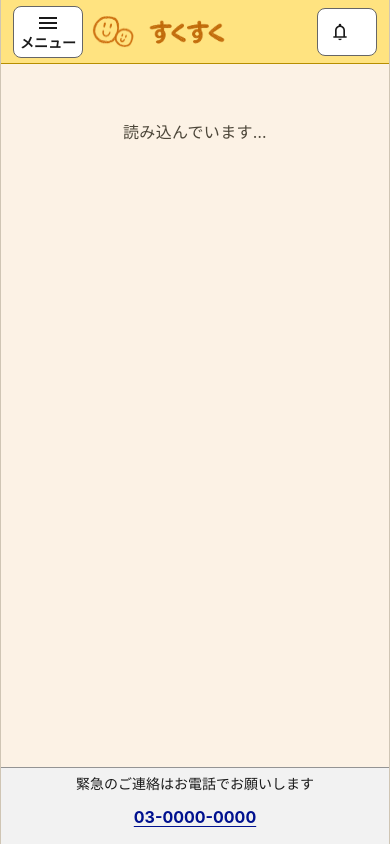
it: 保護者の共通レイアウト › メニューを開く・閉じる、メニューの項目、ログアウトの名前は、アイコンを添えても変わらない
The image size is (390, 844).
Click the button with aria-label "メニューを開く" at (48, 32), box [13, 6, 83, 58]
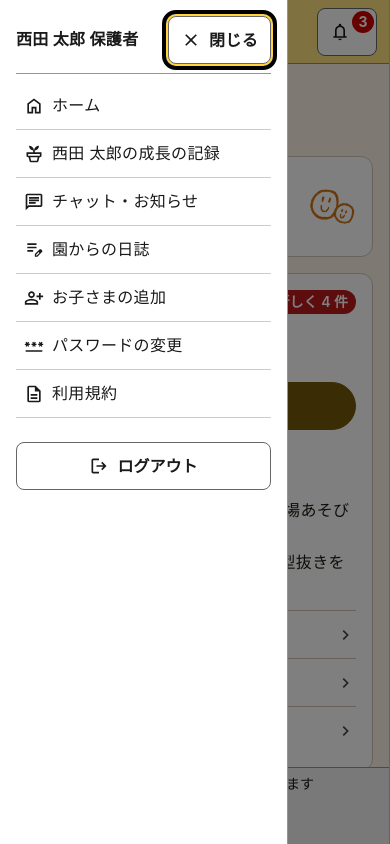
Expected: the button with aria-label "メニューを閉じる" is shown, [168, 16, 271, 64]
Expected: the link "の成長の記録" is shown, [16, 130, 271, 178]
Expected: the link "ホーム" is shown, [16, 82, 271, 130]
